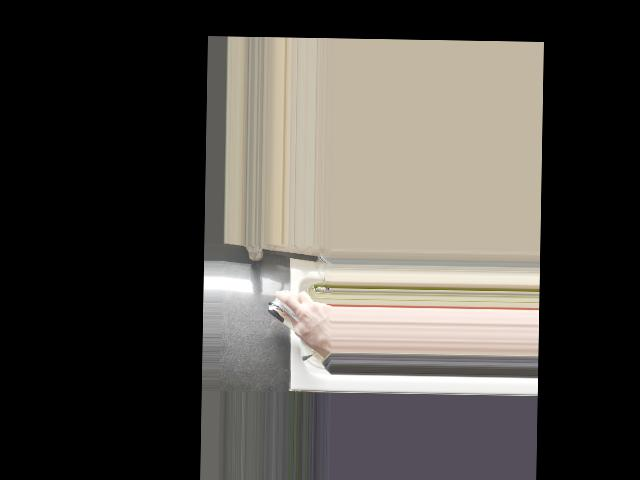cheese: (265, 292, 329, 340)
